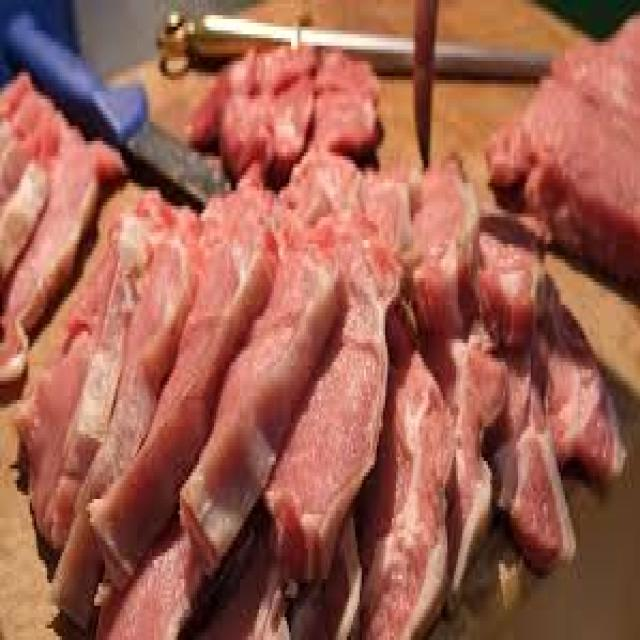Pork: (89, 191, 277, 586), (17, 191, 200, 548), (180, 249, 345, 568), (264, 242, 387, 580), (356, 349, 453, 637), (4, 129, 99, 331), (510, 423, 576, 572), (469, 347, 507, 427)
